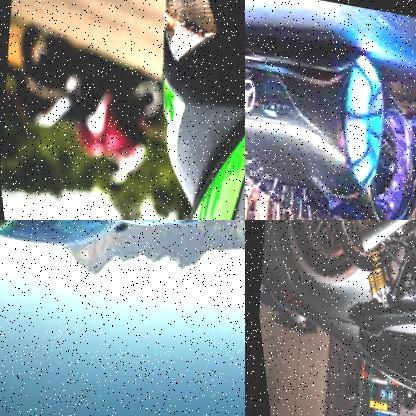bike: (66, 0, 245, 220), (0, 34, 173, 191), (303, 220, 416, 391)
car: (245, 220, 416, 416), (245, 35, 416, 220), (0, 220, 239, 273)
